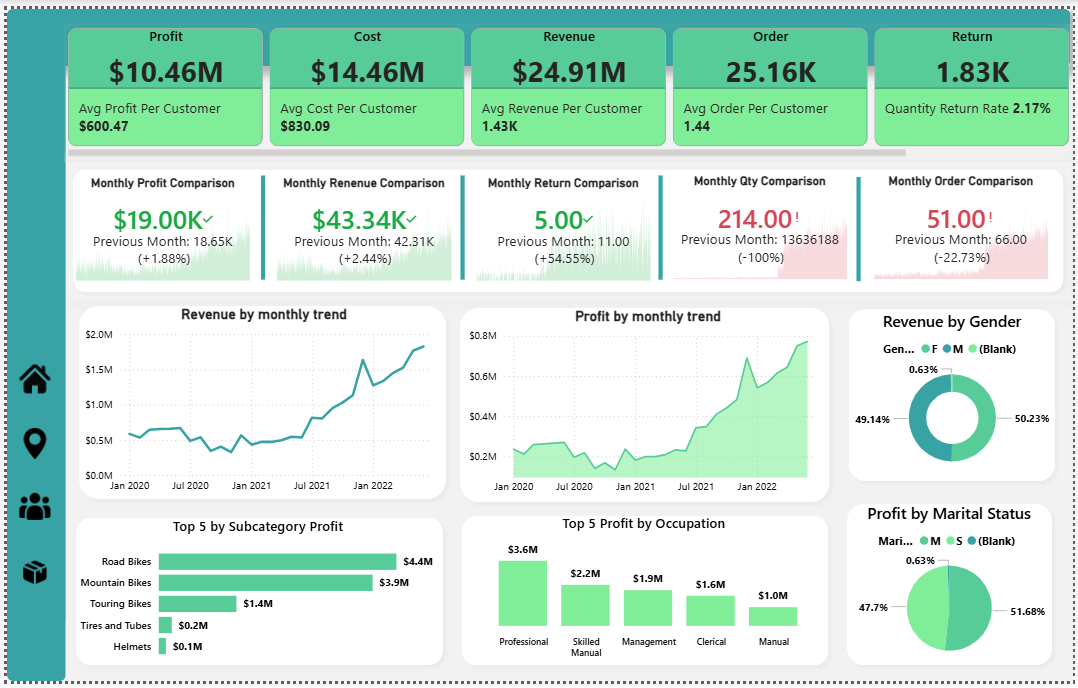

This screenshot's page, from the dashboard's own definition file:
{"tool":"powerbi","page":{"name":"Home","canvas":[1270,800],"ordinal":0},"visuals":[{"type":"shape","box":[69,182,1197,164],"z":0},{"type":"shape","box":[0,0,1266,68],"z":1000},{"type":"shape","box":[0,0,70,800],"z":2000},{"type":"cardVisual","fields":{"Data":["-Measure Table.Profit","-Measure Table.Total Cost","-Measure Table.Total Revenue","-Measure Table.Total Order","-Measure Table.Quantity Return","-Measure Table.Total Order Quantity"]},"box":[68,18,1205,164],"z":3000},{"type":"kpi","title":"Monthly Order Comparison","fields":{"Indicator":["-Measure Table.Total Order"],"TrendLine":["Date.Date"],"Goal":["-Measure Table.Previous Month Order"]},"box":[1026.5,197.1,217.6,130],"z":4000},{"type":"kpi","title":"Monthly Renenue Comparison","fields":{"TrendLine":["Date.Date"],"Indicator":["-Measure Table.Total Revenue"],"Goal":["-Measure Table.Previous Month Revenue"]},"box":[316,198,218,130],"z":5000},{"type":"kpi","title":"Monthly Profit Comparison","fields":{"TrendLine":["Date.Date"],"Goal":["-Measure Table.Previous Month Profit"],"Indicator":["-Measure Table.Profit"]},"box":[76.5,198.5,217.6,130],"z":6000},{"type":"kpi","title":"Monthly Return Comparison","fields":{"TrendLine":["Date.Date"],"Indicator":["-Measure Table.Quantity Return"],"Goal":["-Measure Table.Previous Month Qty Return"]},"box":[552.9,198.5,217.6,130],"z":7000},{"type":"kpi","title":"Monthly Qty Comparison","fields":{"TrendLine":["Date.Date"],"Indicator":["-Measure Table.Total Order Quantity"],"Goal":["-Measure Table.Previous Month Quantity Sold"]},"box":[786.8,197.1,217.6,130],"z":8000},{"type":"shape","box":[298.5,198.5,13.2,124],"z":9000},{"type":"shape","box":[535.3,198.5,13.2,124],"z":10000},{"type":"shape","box":[772.1,198.5,13.2,124],"z":11000},{"type":"shape","box":[1007.4,200,13.2,124],"z":12000},{"type":"shape","box":[76,345,455,248],"z":13000},{"type":"lineChart","title":"Revenue by monthly trend","fields":{"Category":["Date.Date Hierarchy.Year","Date.Date Hierarchy.Start of the Month","Date.Date Hierarchy.Quarter","Date.Date Hierarchy.Date"],"Y":["-Measure Table.Total Revenue"]},"box":[87,353,437,231],"z":14000},{"type":"shape","box":[531,346,458,250],"z":15000},{"type":"areaChart","title":"Profit by monthly trend","fields":{"Category":["Date.Date Hierarchy.Year","Date.Date Hierarchy.Start of the Month","Date.Date Hierarchy.Quarter","Date.Date Hierarchy.Date"],"Y":["-Measure Table.Profit"]},"box":[544,356,437,231],"z":16000},{"type":"shape","box":[993,349,264,223],"z":17000},{"type":"donutChart","title":"Revenue by Gender","fields":{"Category":["Customer.Gender"],"Y":["-Measure Table.Total Revenue"]},"box":[1003,359,243,201],"z":18000},{"type":"shape","box":[73,596,455,194],"z":19000},{"type":"shape","box":[532,594,455,196],"z":20000},{"type":"clusteredBarChart","title":"Top 5 by Subcategory Profit","fields":{"Category":["Product Subcategories.Subcategory Name"],"Y":["-Measure Table.Profit"]},"box":[81,603,437,180],"z":21000},{"type":"shape","box":[991,580,262,210],"z":22000},{"type":"clusteredColumnChart","title":"Top 5 Profit by Occupation","fields":{"Y":["-Measure Table.Profit"],"Category":["Customer.Occupation"]},"box":[540,600,438,181],"z":23000},{"type":"pieChart","title":"Profit by Marital Status","fields":{"Y":["-Measure Table.Profit"],"Category":["Customer.Marital Status"]},"box":[996,587,250,197],"z":24000},{"type":"actionButton","box":[10,418.3,50,45],"z":25000},{"type":"actionButton","box":[10,495,50,45],"z":26000},{"type":"actionButton","box":[10,570,50,45],"z":27000},{"type":"actionButton","box":[10,648.3,50,45],"z":28000}]}

Visuals, with their boxes in screenshot pixels (x1, y1, x2, y2), scaled from the page's 1270x800 canvas onto the 1078x688 screenshot:
shape: box(59, 157, 1075, 298)
shape: box(0, 0, 1075, 58)
shape: box(0, 0, 59, 687)
cardVisual - -Measure Table.Profit x -Measure Table.Total Cost: box(58, 15, 1077, 157)
"Monthly Order Comparison" kpi: box(871, 170, 1056, 281)
"Monthly Renenue Comparison" kpi: box(268, 170, 453, 282)
"Monthly Profit Comparison" kpi: box(65, 171, 250, 283)
"Monthly Return Comparison" kpi: box(469, 171, 654, 283)
"Monthly Qty Comparison" kpi: box(668, 170, 853, 281)
shape: box(253, 171, 265, 277)
shape: box(454, 171, 466, 277)
shape: box(655, 171, 667, 277)
shape: box(855, 172, 866, 279)
shape: box(65, 297, 451, 510)
"Revenue by monthly trend" lineChart: box(74, 304, 445, 502)
shape: box(451, 298, 839, 513)
"Profit by monthly trend" areaChart: box(462, 306, 833, 505)
shape: box(843, 300, 1067, 492)
"Revenue by Gender" donutChart: box(851, 309, 1058, 482)
shape: box(62, 513, 448, 679)
shape: box(452, 511, 838, 679)
"Top 5 by Subcategory Profit" clusteredBarChart: box(69, 519, 440, 673)
shape: box(841, 499, 1064, 679)
"Top 5 Profit by Occupation" clusteredColumnChart: box(458, 516, 830, 672)
"Profit by Marital Status" pieChart: box(845, 505, 1058, 674)
actionButton: box(8, 360, 51, 398)
actionButton: box(8, 426, 51, 464)
actionButton: box(8, 490, 51, 529)
actionButton: box(8, 558, 51, 596)
